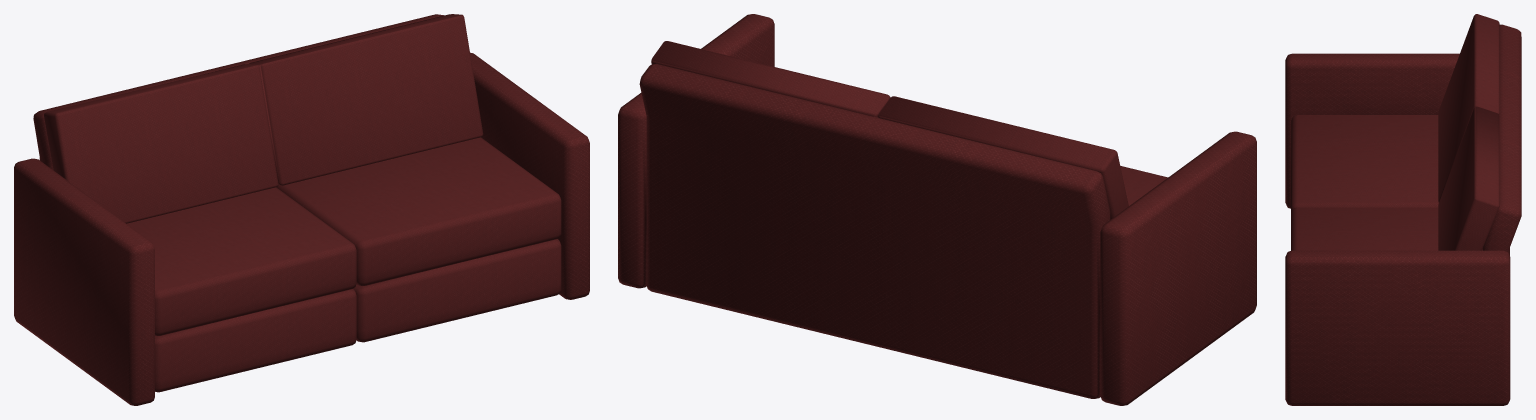
Rendered from couch.glb.
The picture shows the model from 3 angles, left to right: view 1: azimuth 30°, elevation 25°; view 2: azimuth 150°, elevation 25°; view 3: azimuth 270°, elevation 25°; orthographic projection. The views are drawn at different scales.
Visible parts, largest first — view 1: dlX-Couch(red); view 2: dlX-Couch(red); view 3: dlX-Couch(red).
Boxes of the visible parts, bbox=[...] form: dlX-Couch(red): bbox=[14, 14, 589, 405]; dlX-Couch(red): bbox=[618, 14, 1256, 405]; dlX-Couch(red): bbox=[1285, 14, 1521, 405].
Bounding box in the file's own units: 1.8 × 0.8009 × 0.8614.
Materials: 1 (1 with a texture image).
